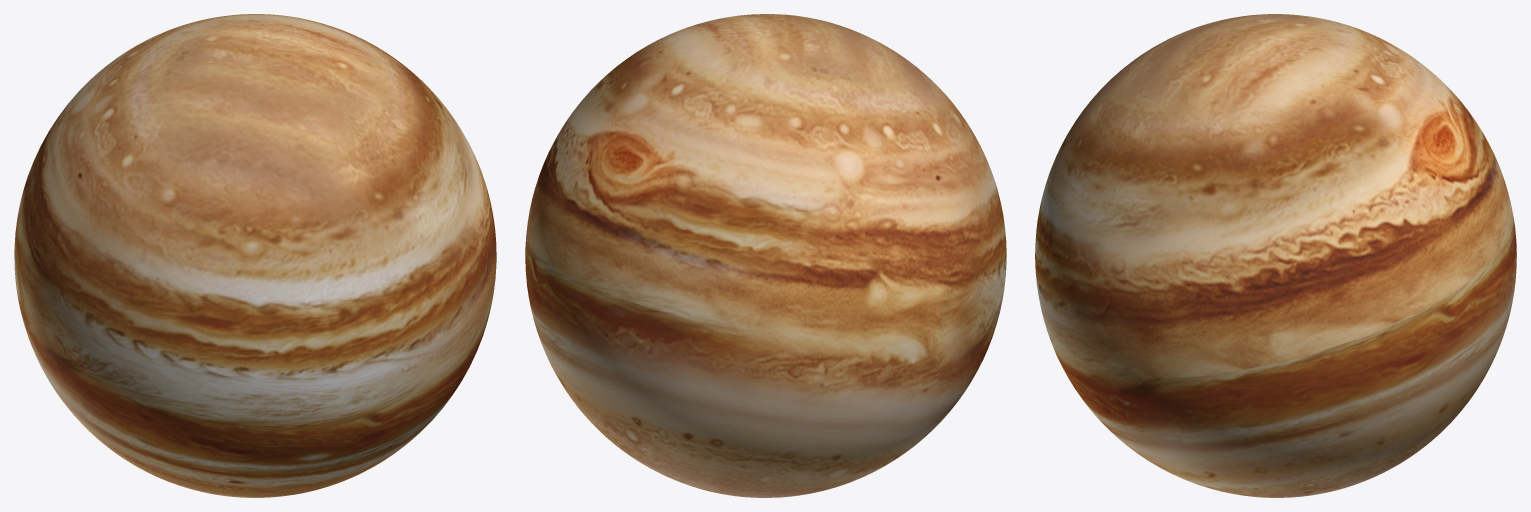
Rendered from Jupiter.glb.
3 renders of one model, left to right at view 1: azimuth 30°, elevation 25°; view 2: azimuth 150°, elevation 25°; view 3: azimuth 270°, elevation 25°, orthographic.
Visible parts, largest first — view 1: Jupiter; view 2: Jupiter; view 3: Jupiter.
Part boxes in pixels (bbox=[...]): Jupiter: bbox=[14, 14, 496, 497]; Jupiter: bbox=[525, 14, 1006, 497]; Jupiter: bbox=[1035, 14, 1516, 497].
Size of the model in its own units: 2 by 2.02 by 2.
1 material, 1 textured.
